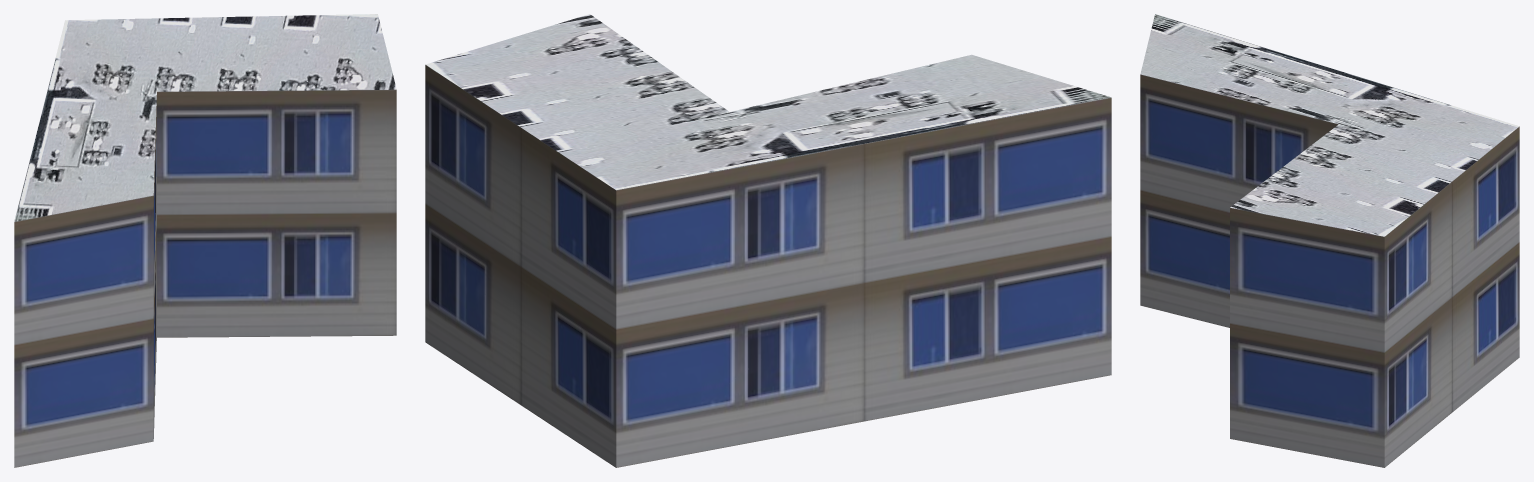
File: ResTex__3993.fbx
The picture shows the model from 3 angles, left to right: view 1: azimuth 30°, elevation 25°; view 2: azimuth 150°, elevation 25°; view 3: azimuth 270°, elevation 25°; orthographic projection. The views are drawn at different scales.
Parts seen in each view (by area): view 1: CityEngineMaterial_23_m, CityEngineMaterial_4_m; view 2: CityEngineMaterial_23_m, CityEngineMaterial_4_m; view 3: CityEngineMaterial_23_m, CityEngineMaterial_4_m.
Boxes of the visible parts, box(x1,y1,x2,y2) form: CityEngineMaterial_23_m: box(14, 89, 396, 467); CityEngineMaterial_4_m: box(14, 14, 396, 221); CityEngineMaterial_23_m: box(425, 65, 1111, 467); CityEngineMaterial_4_m: box(425, 14, 1111, 190); CityEngineMaterial_23_m: box(1140, 74, 1519, 467); CityEngineMaterial_4_m: box(1140, 14, 1518, 236).
Size of the model in its own units: 12.4 by 6 by 8.92.
2 materials, 2 textured.
